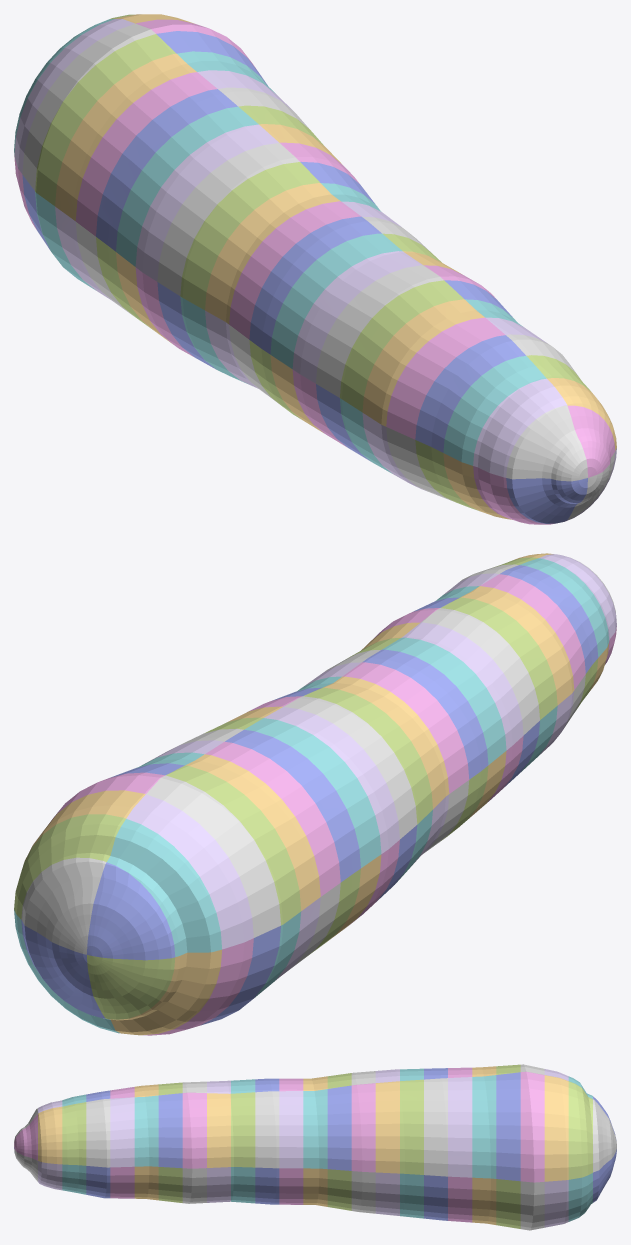
The model's file is generic_pancreas_organ.glb.
3 views of the same model, one above another, from view 1: azimuth 30°, elevation 25°; view 2: azimuth 150°, elevation 25°; view 3: azimuth 270°, elevation 25° (orthographic). The views are drawn at different scales.
Parts seen in each view (by area): view 1: f_g_pancreas_ob_A-14-II, f_g_pancreas_ob_A-21-II, f_g_pancreas_ob_A-20-II, f_g_pancreas_ob_A-15-II, f_g_pancreas_ob_A-16-II, f_g_pancreas_ob_A-19-II, f_g_pancreas_ob_A-18-II, f_g_pancreas_ob_A-17-II, f_g_pancreas_ob_A-13-II, f_g_pancreas_ob_A-5-II, f_g_pancreas_ob_A-10-II, f_g_pancreas_ob_A-11-II (+47 smaller); view 2: f_g_pancreas_ob_A-24-II, f_g_pancreas_ob_A-23-II, f_g_pancreas_ob_A-25-II, f_g_pancreas_ob_A-22-II, f_g_pancreas_ob_B-25-II, f_g_pancreas_ob_A-19-II, f_g_pancreas_ob_A-18-II, f_g_pancreas_ob_A-21-II, f_g_pancreas_ob_A-17-II, f_g_pancreas_ob_A-20-II, f_g_pancreas_ob_A-25-I, f_g_pancreas_ob_A-24-I (+33 smaller); view 3: f_g_pancreas_ob_B-22-II, f_g_pancreas_ob_B-21-II, f_g_pancreas_ob_B-23-II, f_g_pancreas_ob_B-20-II, f_g_pancreas_ob_B-19-II, f_g_pancreas_ob_B-18-II, f_g_pancreas_ob_B-16-II, f_g_pancreas_ob_B-17-II, f_g_pancreas_ob_B-24-II, f_g_pancreas_ob_B-15-II, f_g_pancreas_ob_B-14-II, f_g_pancreas_ob_B-13-II (+53 smaller).
Part boxes in pixels (x1=…): f_g_pancreas_ob_A-14-II: x1=180, y1=162, x2=319, y2=309; f_g_pancreas_ob_A-21-II: x1=35, y1=34, x2=175, y2=205; f_g_pancreas_ob_A-20-II: x1=55, y1=53, x2=196, y2=220; f_g_pancreas_ob_A-15-II: x1=157, y1=143, x2=299, y2=295; f_g_pancreas_ob_A-16-II: x1=135, y1=124, x2=278, y2=281; f_g_pancreas_ob_A-19-II: x1=75, y1=72, x2=217, y2=236; f_g_pancreas_ob_A-18-II: x1=96, y1=89, x2=237, y2=251; f_g_pancreas_ob_A-17-II: x1=116, y1=106, x2=258, y2=266; f_g_pancreas_ob_A-13-II: x1=205, y1=183, x2=340, y2=324; f_g_pancreas_ob_A-5-II: x1=386, y1=317, x2=505, y2=439; f_g_pancreas_ob_A-10-II: x1=270, y1=233, x2=402, y2=368; f_g_pancreas_ob_A-11-II: x1=249, y1=216, x2=381, y2=354; f_g_pancreas_ob_A-24-II: x1=107, y1=819, x2=222, y2=956; f_g_pancreas_ob_A-23-II: x1=126, y1=794, x2=253, y2=949; f_g_pancreas_ob_A-25-II: x1=87, y1=862, x2=175, y2=960; f_g_pancreas_ob_A-22-II: x1=146, y1=775, x2=280, y2=937; f_g_pancreas_ob_B-25-II: x1=21, y1=857, x2=106, y2=954; f_g_pancreas_ob_A-19-II: x1=205, y1=741, x2=340, y2=896; f_g_pancreas_ob_A-18-II: x1=225, y1=729, x2=360, y2=882; f_g_pancreas_ob_A-21-II: x1=166, y1=765, x2=301, y2=925; f_g_pancreas_ob_A-17-II: x1=244, y1=718, x2=381, y2=867; f_g_pancreas_ob_A-20-II: x1=185, y1=754, x2=320, y2=910; f_g_pancreas_ob_A-25-I: x1=87, y1=955, x2=175, y2=1019; f_g_pancreas_ob_A-24-I: x1=108, y1=949, x2=221, y2=1035; f_g_pancreas_ob_B-22-II: x1=520, y1=1071, x2=544, y2=1182; f_g_pancreas_ob_B-21-II: x1=496, y1=1072, x2=520, y2=1181; f_g_pancreas_ob_B-23-II: x1=544, y1=1075, x2=568, y2=1181; f_g_pancreas_ob_B-20-II: x1=472, y1=1075, x2=496, y2=1178; f_g_pancreas_ob_B-19-II: x1=448, y1=1077, x2=472, y2=1177; f_g_pancreas_ob_B-18-II: x1=424, y1=1078, x2=447, y2=1176; f_g_pancreas_ob_B-16-II: x1=375, y1=1081, x2=399, y2=1173; f_g_pancreas_ob_B-17-II: x1=400, y1=1079, x2=423, y2=1174; f_g_pancreas_ob_B-24-II: x1=568, y1=1081, x2=592, y2=1179; f_g_pancreas_ob_B-15-II: x1=351, y1=1083, x2=375, y2=1172; f_g_pancreas_ob_B-14-II: x1=327, y1=1085, x2=351, y2=1170; f_g_pancreas_ob_B-13-II: x1=303, y1=1089, x2=327, y2=1168.
Bounding box in the file's own units: 49.6 × 49.42 × 179.
